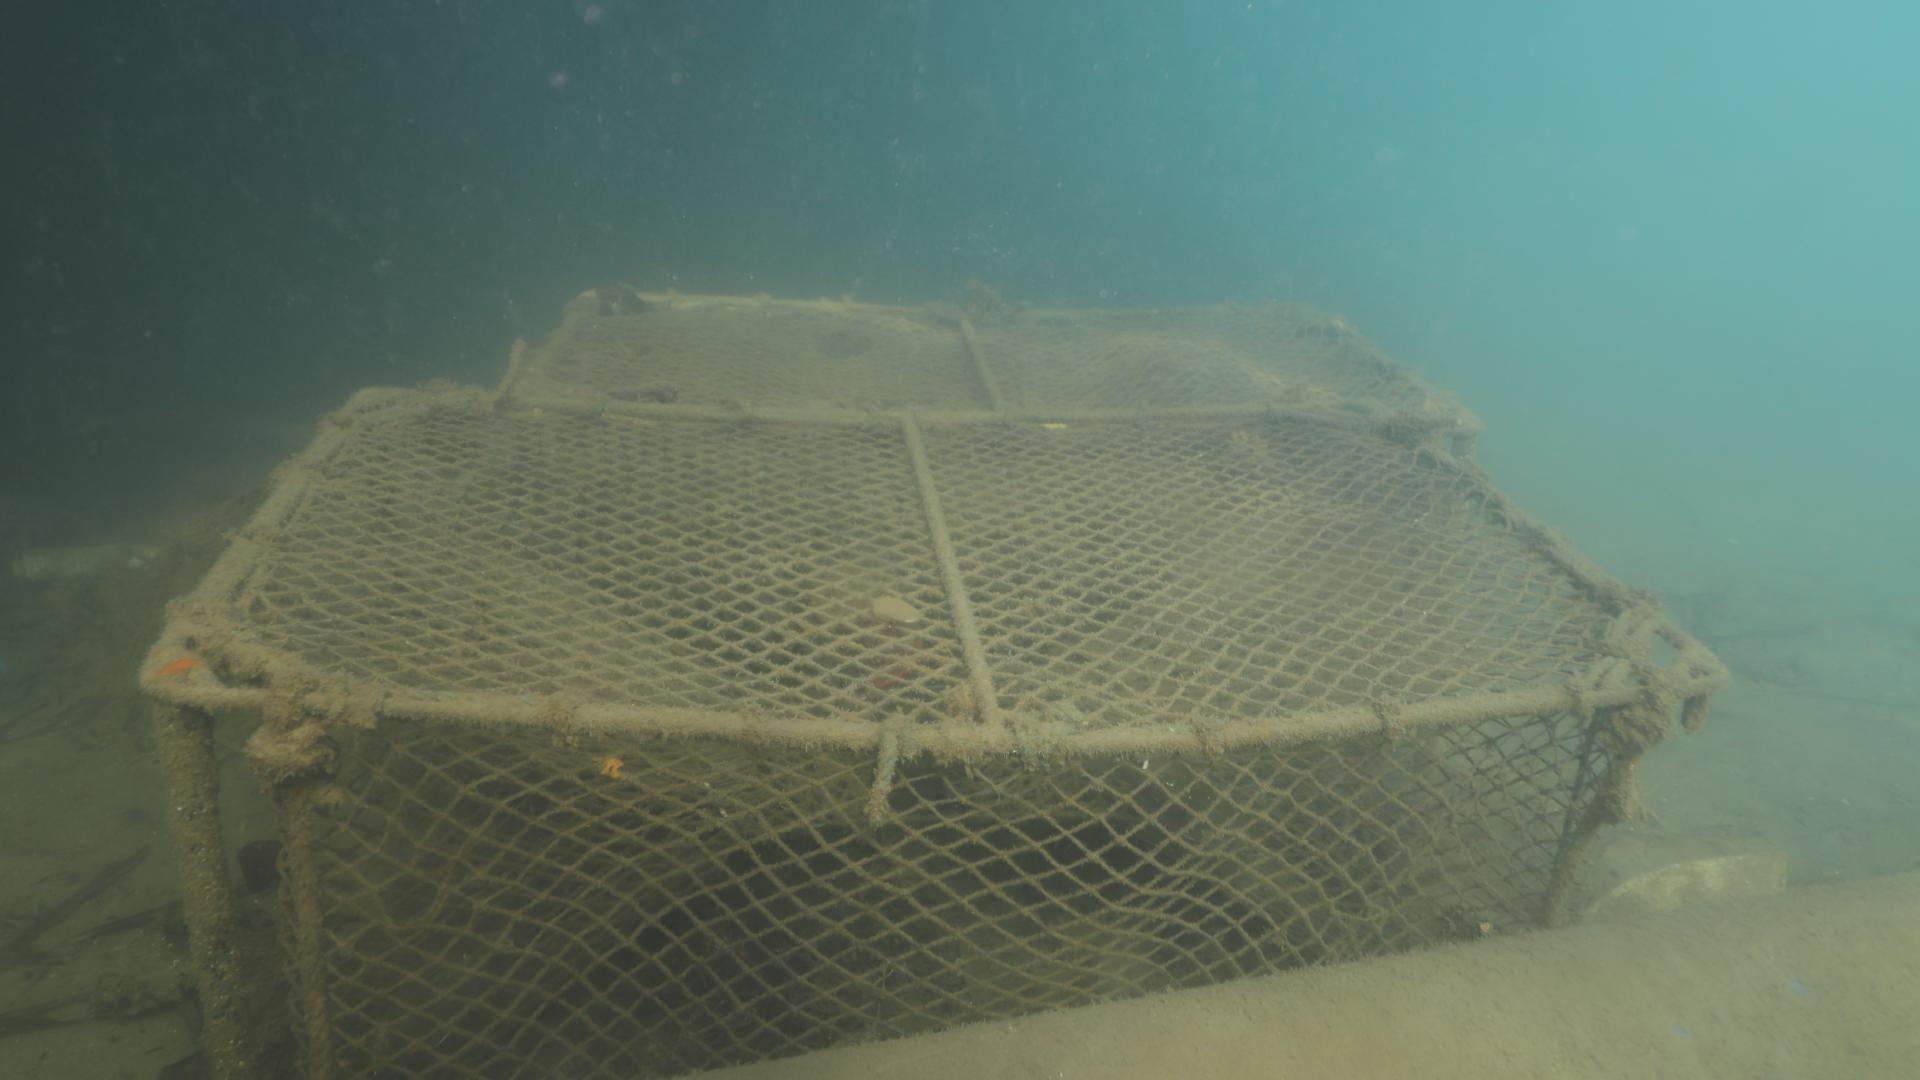rectangular fish trap: (138, 384, 1735, 1080), (501, 286, 1481, 484)
